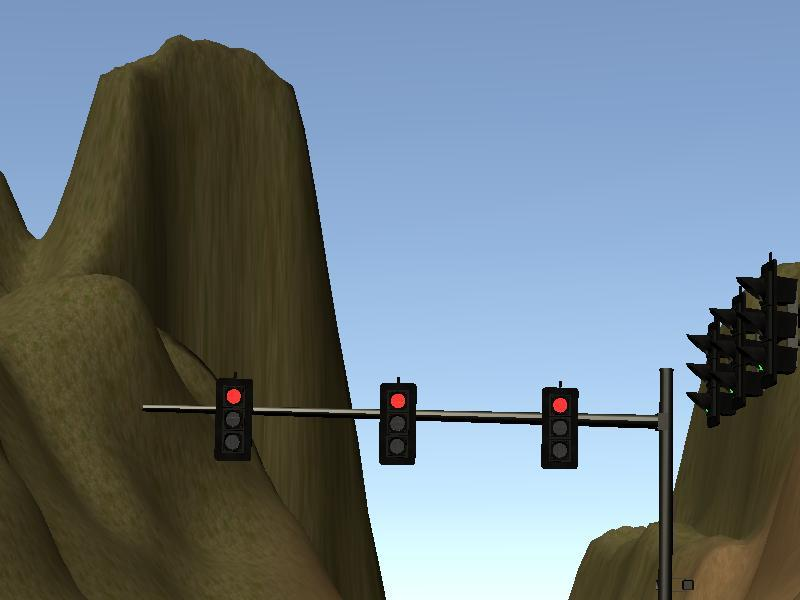Red: (539, 386, 577, 469), (378, 383, 416, 466), (213, 379, 251, 462)
